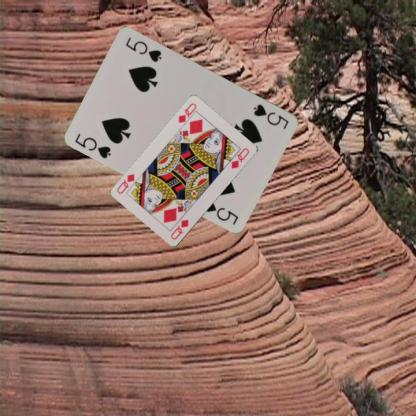5s: (250, 101, 290, 131), (72, 131, 113, 160)
Qd: (176, 101, 198, 130), (168, 217, 190, 241)
